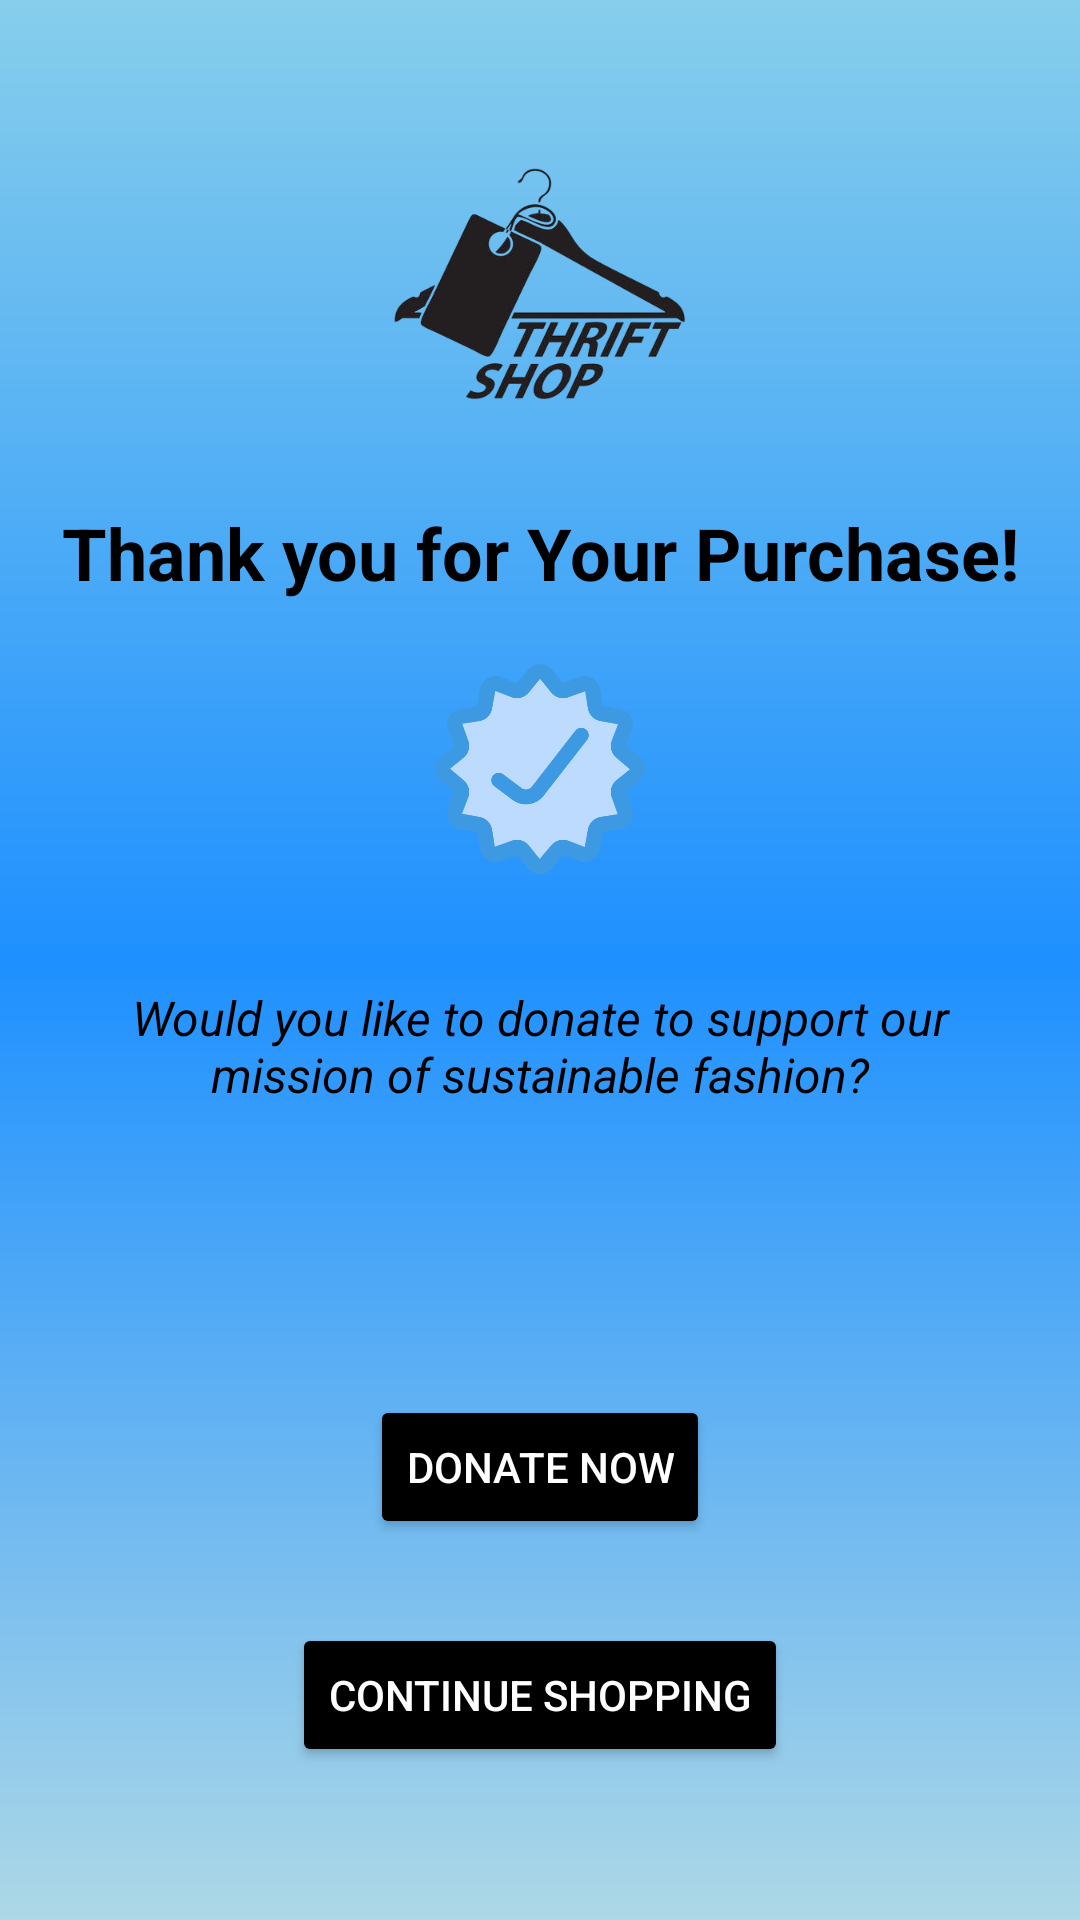

Where to tap for icons on this 1080w x 1920h app screen, as point (x, y):
Success Icon: point (540, 761)
